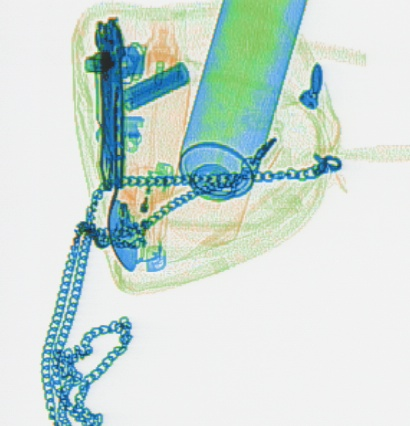knife: (93, 15, 125, 191)
lighter: (130, 165, 166, 273), (129, 160, 176, 240), (110, 160, 140, 241)
pressure: (166, 0, 306, 245)
